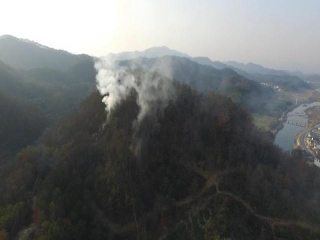smoke: (90, 45, 190, 138)
